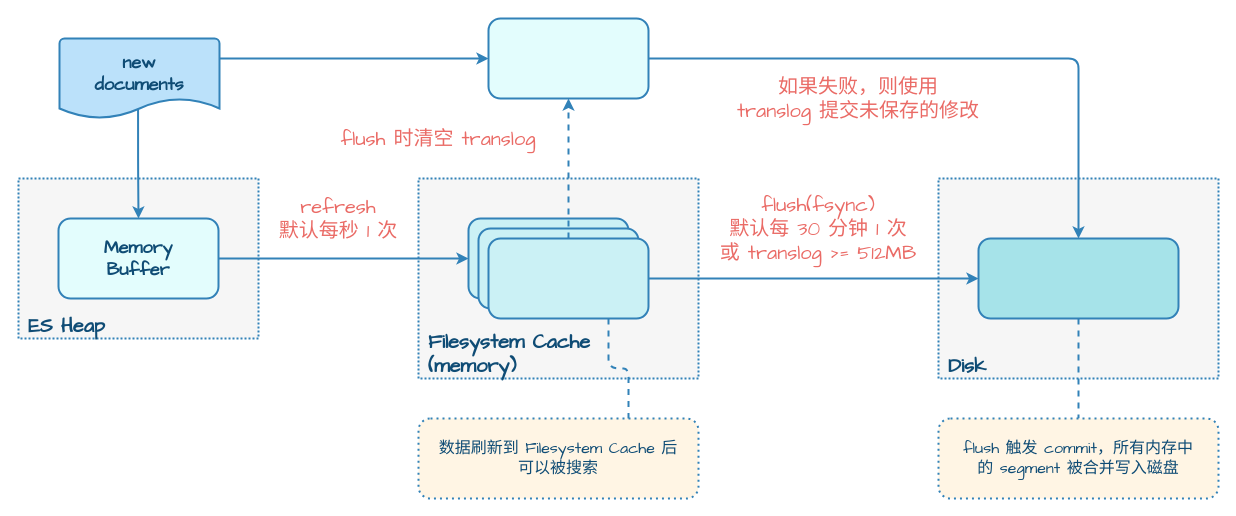
Some shapes in this 1236 by 516 pixel diagram are drawn without their labels. Here are the shapes that lost their labels. From the top down, the centre of each, then its label:
At point (568, 58): "Translog 每个 shard 有 1 个".
At point (568, 278): "Lucene Segment".
At point (1078, 278): "lucene merged segment".
